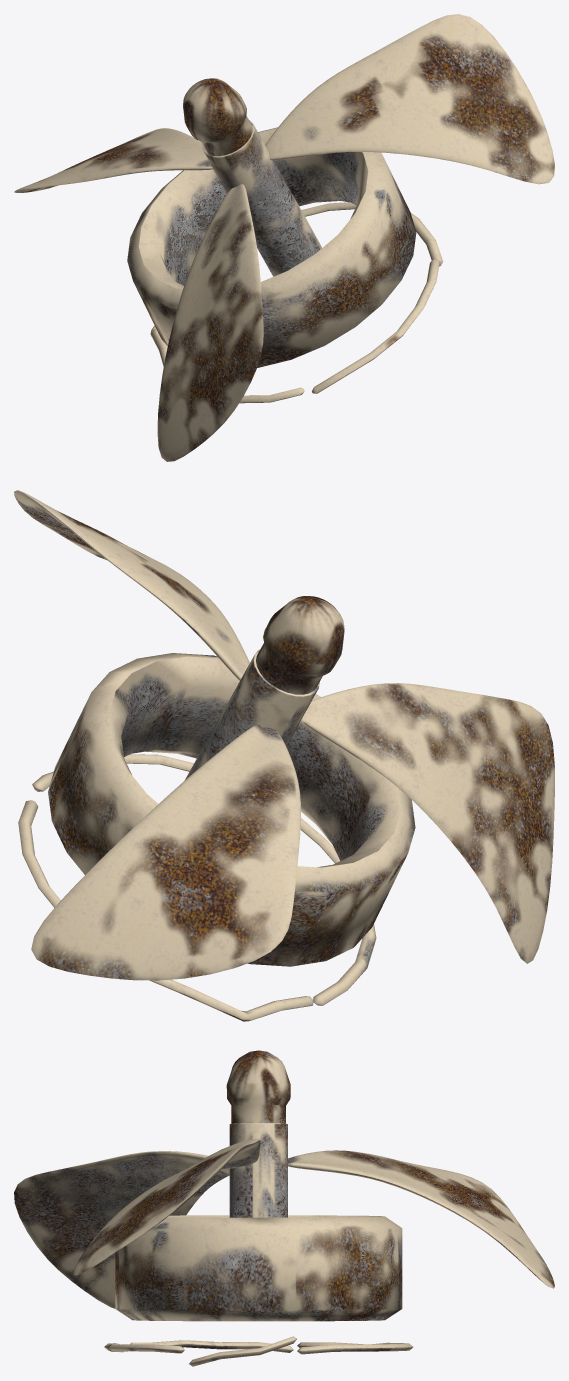
File: propeller.fbx
3 renders of one model, top to bottom at view 1: azimuth 30°, elevation 25°; view 2: azimuth 150°, elevation 25°; view 3: azimuth 270°, elevation 25°, orthographic. The views are drawn at different scales.
Visible parts, largest first — view 1: Cylinder; view 2: Cylinder; view 3: Cylinder.
Part boxes in pixels (left/top/right/bottom): Cylinder: left=14, top=14, right=554, bottom=461; Cylinder: left=14, top=490, right=554, bottom=1021; Cylinder: left=14, top=1050, right=554, bottom=1366.
Size of the model in its own units: 624 by 508 by 752.
Materials: 1 (1 with a texture image).
